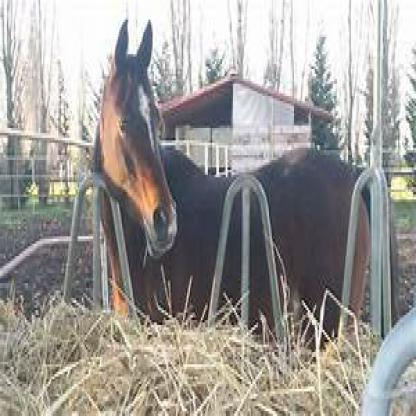horse: (61, 22, 398, 337)
